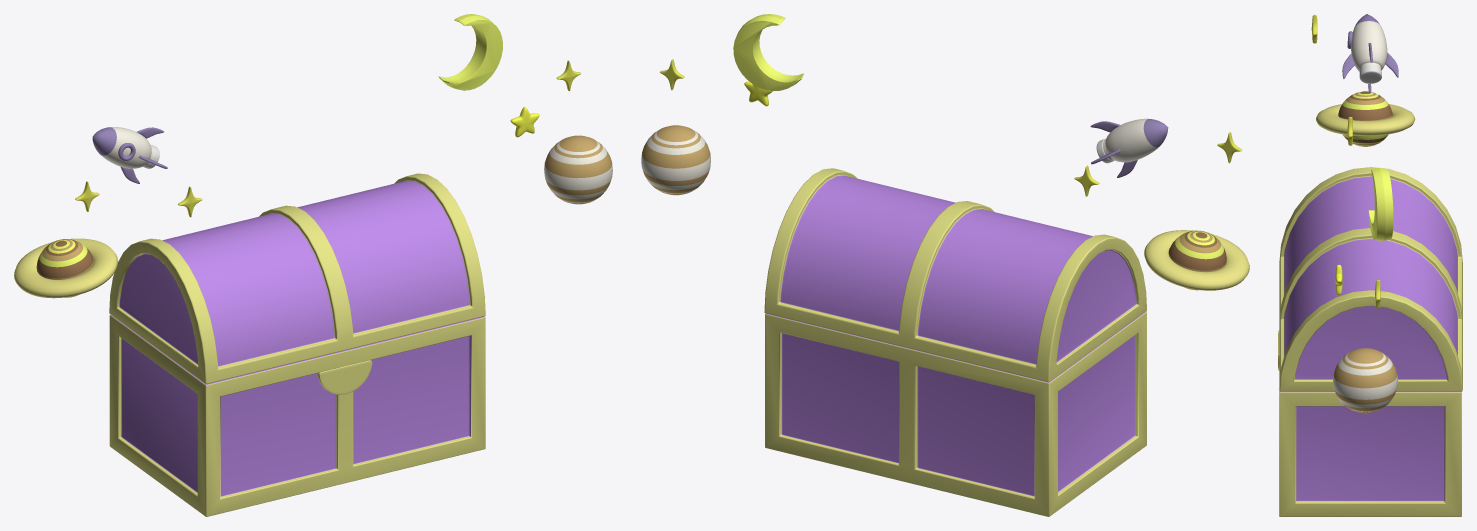
3 views of the same model, side by side, from view 1: azimuth 30°, elevation 25°; view 2: azimuth 150°, elevation 25°; view 3: azimuth 270°, elevation 25° (orthographic). The views are drawn at different scales.
Parts seen in each view (by area): view 1: Cylinder, Cube, Sphere.008, Torus.002, Circle.003, Cone, Sphere.003, Cylinder.001; view 2: Cylinder, Cube, Sphere.008, Torus.002, Circle.003, Cone, Sphere.003; view 3: Cylinder, Cube, Sphere.008, Cone, Torus.002, Sphere.003, Circle.003, Plane.010.
Boxes of the visible parts, left/top/right/bottom form: Cylinder: left=109, top=173, right=485, bottom=383; Cube: left=109, top=314, right=485, bottom=516; Sphere.008: left=544, top=135, right=612, bottom=204; Torus.002: left=14, top=238, right=117, bottom=298; Circle.003: left=438, top=14, right=502, bottom=90; Cone: left=92, top=127, right=159, bottom=168; Sphere.003: left=36, top=239, right=93, bottom=297; Cylinder.001: left=317, top=360, right=372, bottom=394; Cylinder: left=764, top=168, right=1146, bottom=382; Cube: left=765, top=311, right=1146, bottom=516; Sphere.008: left=641, top=125, right=710, bottom=195; Torus.002: left=1144, top=230, right=1249, bottom=290; Circle.003: left=733, top=14, right=804, bottom=91; Cone: left=1096, top=118, right=1168, bottom=163; Sphere.003: left=1168, top=230, right=1226, bottom=290; Cylinder: left=1279, top=167, right=1462, bottom=391; Cube: left=1279, top=391, right=1461, bottom=516; Sphere.008: left=1333, top=348, right=1397, bottom=413; Cone: left=1351, top=14, right=1387, bottom=83; Torus.002: left=1316, top=104, right=1415, bottom=135; Sphere.003: left=1338, top=91, right=1392, bottom=146; Circle.003: left=1368, top=167, right=1393, bottom=240; Plane.010: left=1342, top=52, right=1398, bottom=78.
Size of the model in its own units: 1.45 by 0.9042 by 0.4167.
